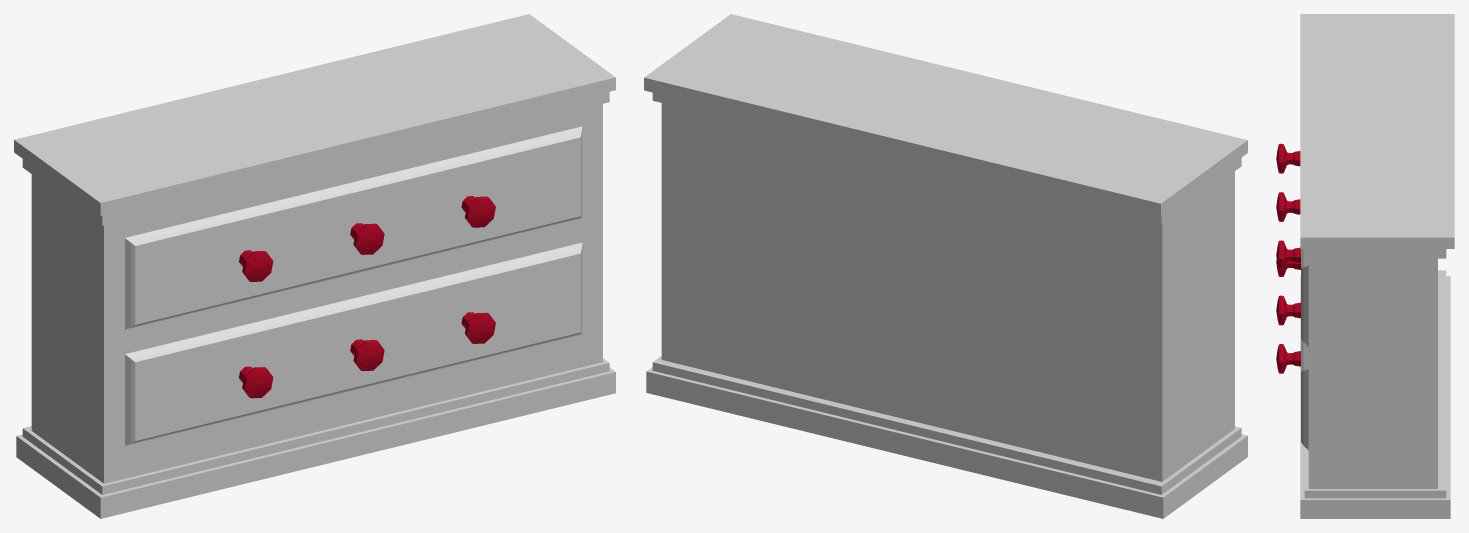
Rendered from Drawer2.fbx.
The picture shows the model from 3 angles, left to right: view 1: azimuth 30°, elevation 25°; view 2: azimuth 150°, elevation 25°; view 3: azimuth 270°, elevation 25°; orthographic projection. The views are drawn at different scales.
Visible parts, largest first — view 1: Drawer, Drawer1, Drawer1.001, Grip.002, Grip, Grip.004, Grip.001, Grip.003, Grip.005; view 2: Drawer; view 3: Drawer, Drawer1.001, Drawer1, Grip.003, Grip.002, Grip.001, Grip, Grip.005.
Boxes of the visible parts, bbox=[...] form: Drawer: bbox=[14, 14, 615, 518]; Drawer1: bbox=[125, 126, 582, 329]; Drawer1.001: bbox=[125, 242, 582, 445]; Grip.002: bbox=[461, 196, 495, 227]; Grip: bbox=[350, 223, 384, 254]; Grip.004: bbox=[239, 366, 273, 398]; Grip.001: bbox=[239, 250, 273, 281]; Grip.003: bbox=[350, 339, 384, 370]; Grip.005: bbox=[461, 312, 495, 343]; Drawer: bbox=[644, 14, 1247, 518]; Drawer: bbox=[1300, 14, 1454, 518]; Drawer1.001: bbox=[1301, 339, 1308, 449]; Drawer1: bbox=[1301, 249, 1308, 346]; Grip.003: bbox=[1276, 295, 1300, 325]; Grip.002: bbox=[1276, 240, 1300, 270]; Grip.001: bbox=[1276, 143, 1300, 173]; Grip: bbox=[1276, 192, 1300, 221]; Grip.005: bbox=[1276, 344, 1300, 373].
Size of the model in its own units: 1.27 by 0.4281 by 0.744.
